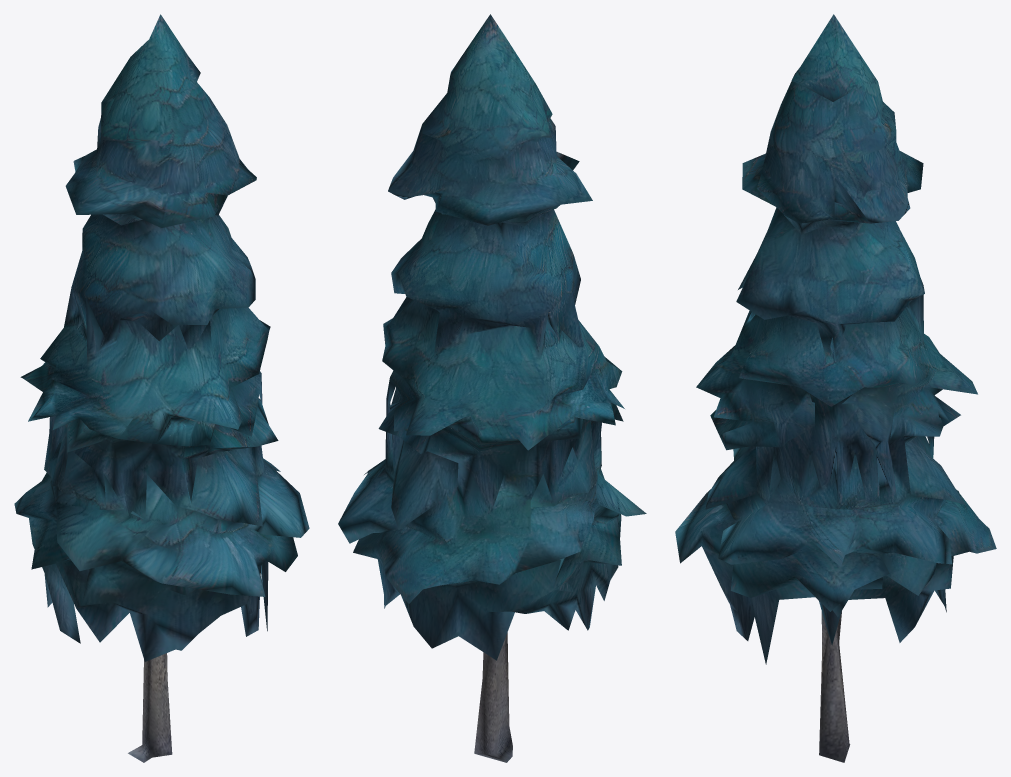
File: Tree - Pine v1-CJsEGCqC.glb
3 views of the same model, side by side, from view 1: azimuth 30°, elevation 25°; view 2: azimuth 150°, elevation 25°; view 3: azimuth 270°, elevation 25° (orthographic).
Parts seen in each view (by area): view 1: tripo_node_660d948b-b50b-40f8-8fa5-64432ac6f7be; view 2: tripo_node_660d948b-b50b-40f8-8fa5-64432ac6f7be; view 3: tripo_node_660d948b-b50b-40f8-8fa5-64432ac6f7be.
Boxes of the visible parts, x1,y1,x2,y2 form: tripo_node_660d948b-b50b-40f8-8fa5-64432ac6f7be: [14, 14, 309, 762]; tripo_node_660d948b-b50b-40f8-8fa5-64432ac6f7be: [338, 14, 646, 762]; tripo_node_660d948b-b50b-40f8-8fa5-64432ac6f7be: [675, 14, 996, 762].
Size of the model in its own units: 0.3801 by 1 by 0.3913.
1 material, 1 textured.
